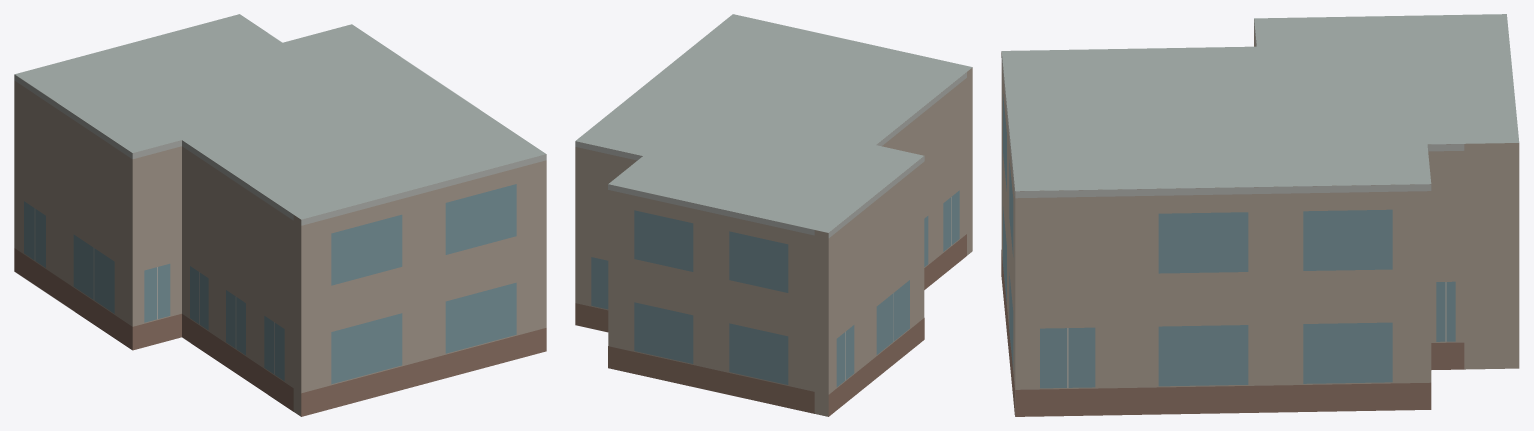
File: survey-upis-32472367.glb
3 views of the same model, side by side, from view 1: azimuth 30°, elevation 25°; view 2: azimuth 150°, elevation 25°; view 3: azimuth 270°, elevation 25° (orthographic). The views are drawn at different scales.
Parts seen in each view (by area): view 1: survey-upis-32472367.tmp; view 2: survey-upis-32472367.tmp; view 3: survey-upis-32472367.tmp.
Boxes of the visible parts, box(x1,y1,x2,y2) form: survey-upis-32472367.tmp: box(14, 14, 546, 416); survey-upis-32472367.tmp: box(575, 14, 972, 416); survey-upis-32472367.tmp: box(1001, 14, 1519, 416).
Size of the model in its own units: 13.26 by 7.87 by 16.37.
